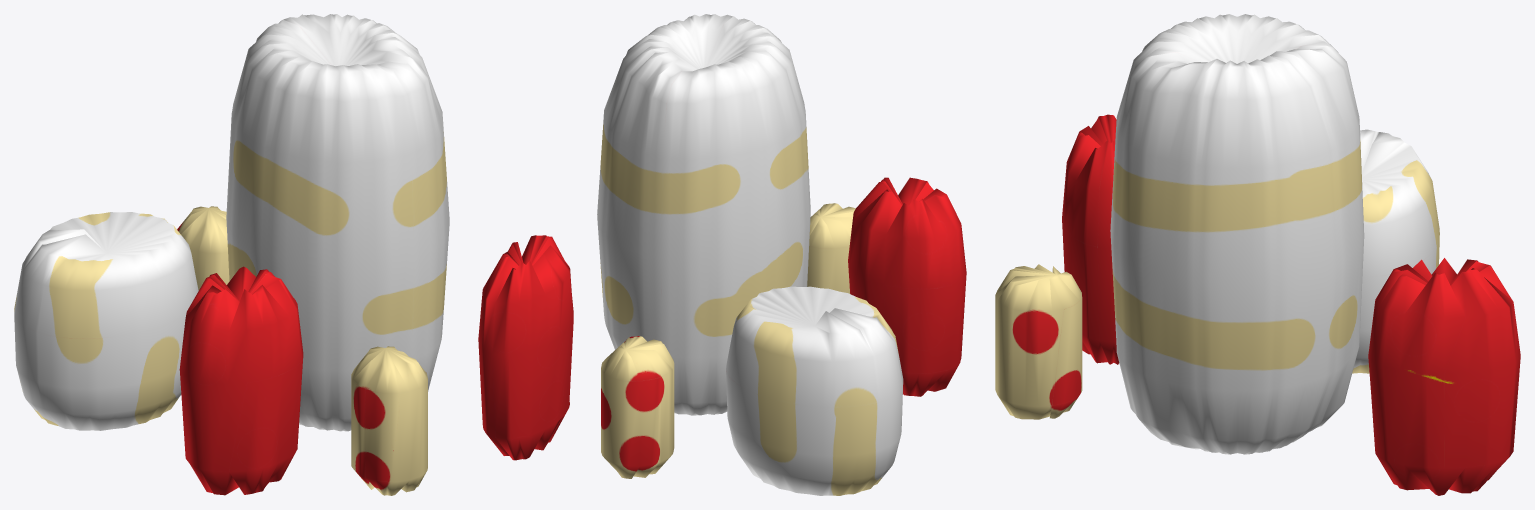
Rendered from coral-hairtail.fbx.
3 renders of one model, left to right at view 1: azimuth 30°, elevation 25°; view 2: azimuth 150°, elevation 25°; view 3: azimuth 270°, elevation 25°, orthographic. The views are drawn at different scales.
Visible parts, largest first — view 1: node_id30; view 2: node_id30; view 3: node_id30.
Boxes of the visible parts, x1,y1,x2,y2 form: node_id30: (14, 14, 449, 495); node_id30: (478, 14, 966, 495); node_id30: (995, 14, 1520, 495).
Size of the model in its own units: 0.512 by 0.4814 by 0.5728.
Materials: 1 (1 with a texture image).
